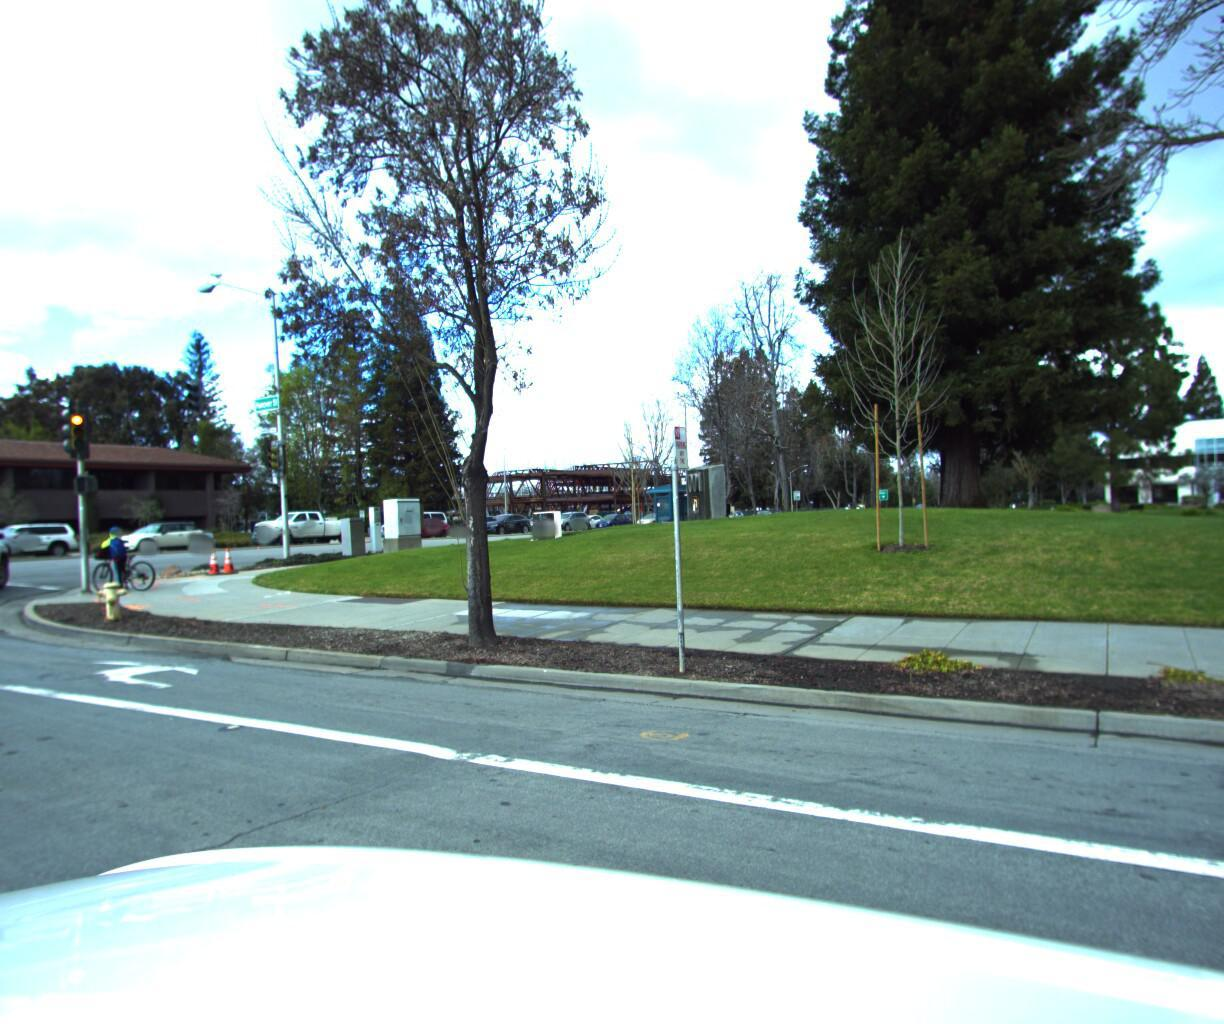bicycle: (77, 519, 170, 589)
car: (248, 503, 368, 545), (94, 517, 215, 551), (0, 516, 95, 559), (116, 514, 219, 552), (0, 505, 32, 610), (248, 514, 332, 543), (377, 503, 454, 535), (0, 511, 36, 569), (390, 510, 457, 535), (475, 508, 540, 532), (540, 506, 594, 527), (591, 508, 634, 528), (632, 502, 676, 521)
